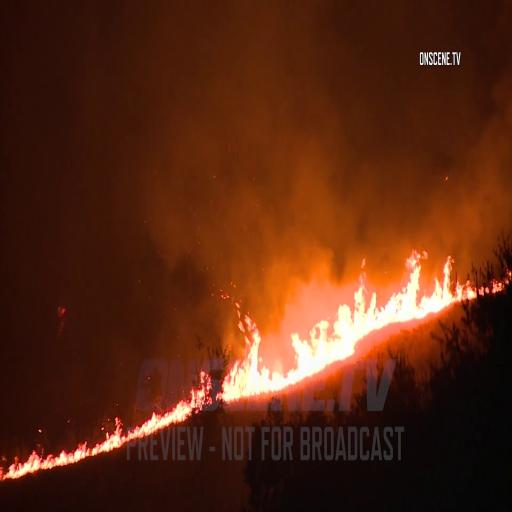fire: (288, 260, 420, 383), (222, 275, 299, 386)
